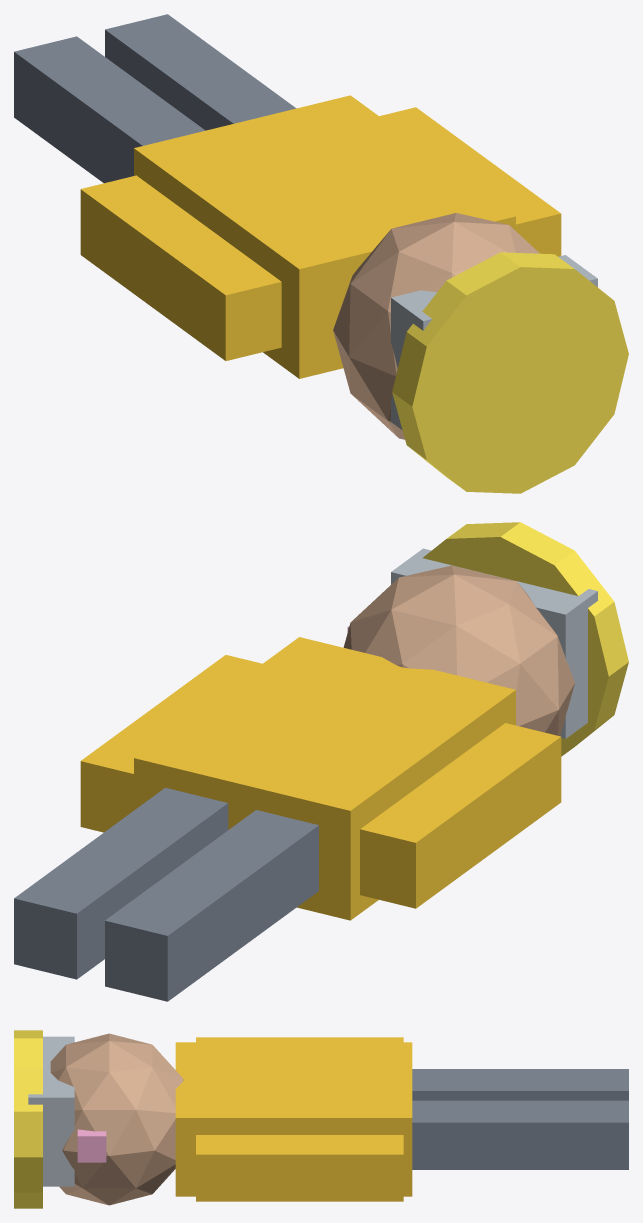
File: safety_variant_2.glb
The picture shows the model from 3 angles, top to bottom: view 1: azimuth 30°, elevation 25°; view 2: azimuth 150°, elevation 25°; view 3: azimuth 270°, elevation 25°; orthographic projection. The views are drawn at different scales.
Parts seen in each view (by area): view 1: torso_2, helmet_7, arm_l_3, leg_l_0, head_5, leg_r_1, arm_r_4, hair_6; view 2: torso_2, leg_l_0, arm_l_3, head_5, leg_r_1, helmet_7, arm_r_4, hair_6; view 3: torso_2, head_5, leg_r_1, arm_r_4, leg_l_0, helmet_7, hair_6, arm_l_3, earring_or_badge_8.
Boxes of the visible parts, box(x1,y1,x2,y2) form: torso_2: box(134, 95, 515, 378); helmet_7: box(392, 252, 628, 493); arm_l_3: box(80, 175, 281, 360); leg_l_0: box(14, 36, 205, 183); head_5: box(333, 213, 539, 439); leg_r_1: box(105, 14, 296, 130); arm_r_4: box(379, 107, 561, 256); hair_6: box(391, 255, 597, 430); torso_2: box(134, 637, 515, 920); leg_l_0: box(105, 810, 318, 1001); arm_l_3: box(360, 723, 561, 908); head_5: box(343, 565, 574, 736); leg_r_1: box(14, 787, 228, 979); helmet_7: box(423, 522, 628, 756); arm_r_4: box(80, 655, 262, 832); hair_6: box(391, 548, 597, 738); torso_2: box(175, 1042, 412, 1196); head_5: box(50, 1033, 183, 1205); leg_r_1: box(412, 1100, 628, 1169); arm_r_4: box(196, 1135, 403, 1201); leg_l_0: box(412, 1069, 628, 1100); helmet_7: box(14, 1030, 42, 1208); hair_6: box(28, 1036, 74, 1186); arm_l_3: box(196, 1037, 403, 1042); earring_or_badge_8: box(77, 1129, 106, 1162).
Size of the model in its own units: 0.96 by 0.62 by 2.13.
